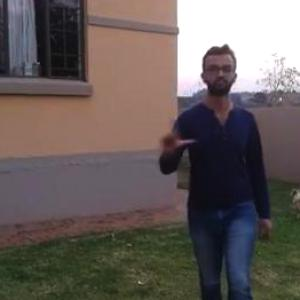land_hand: (149, 103, 199, 158)
